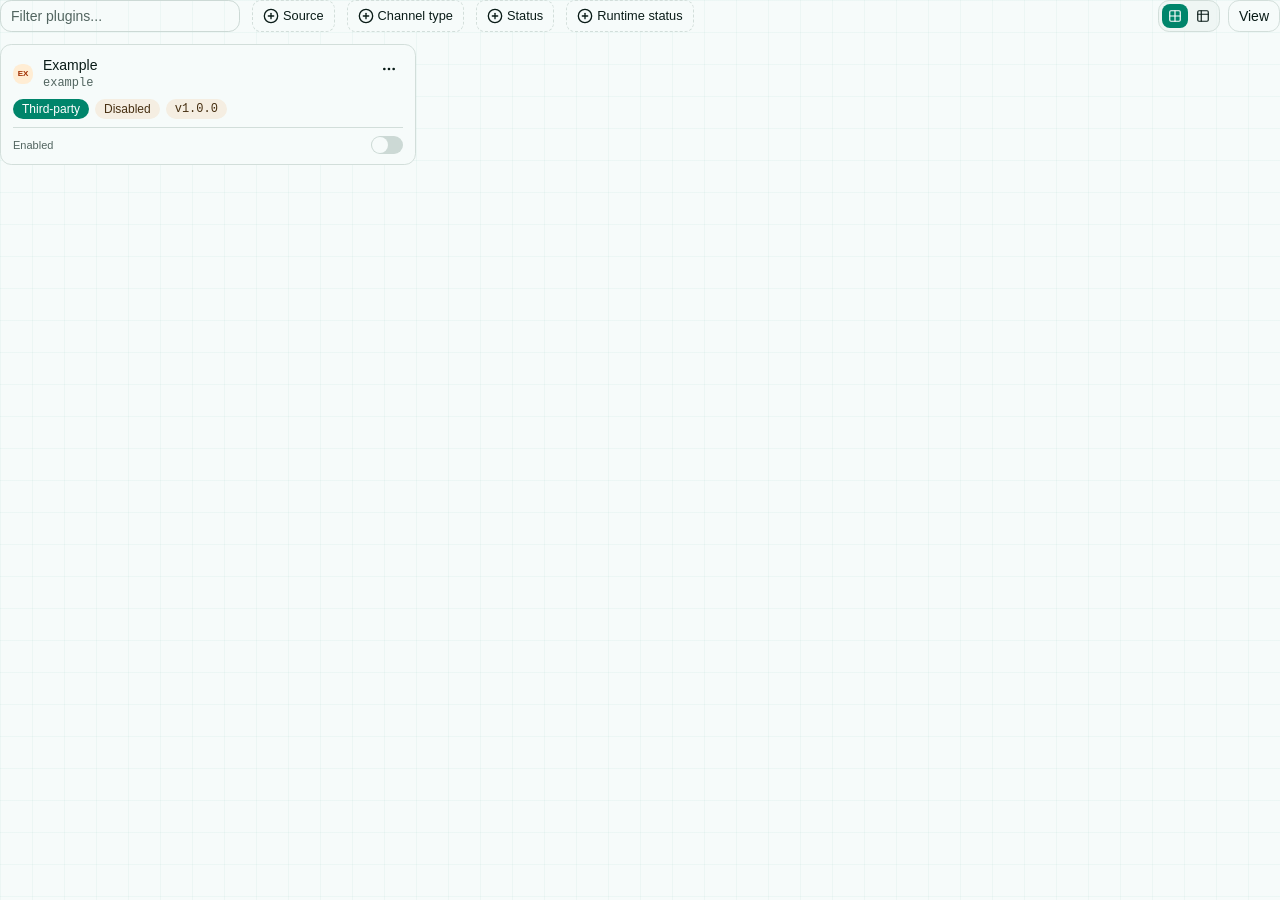
Test: card view: changing enabled=false requires confirmation and cancellation preserves status
The width and height of the screenshot is (1280, 900).
Click the switch named "Enable plugin example".
click(387, 145)  # box [371,136,403,154]
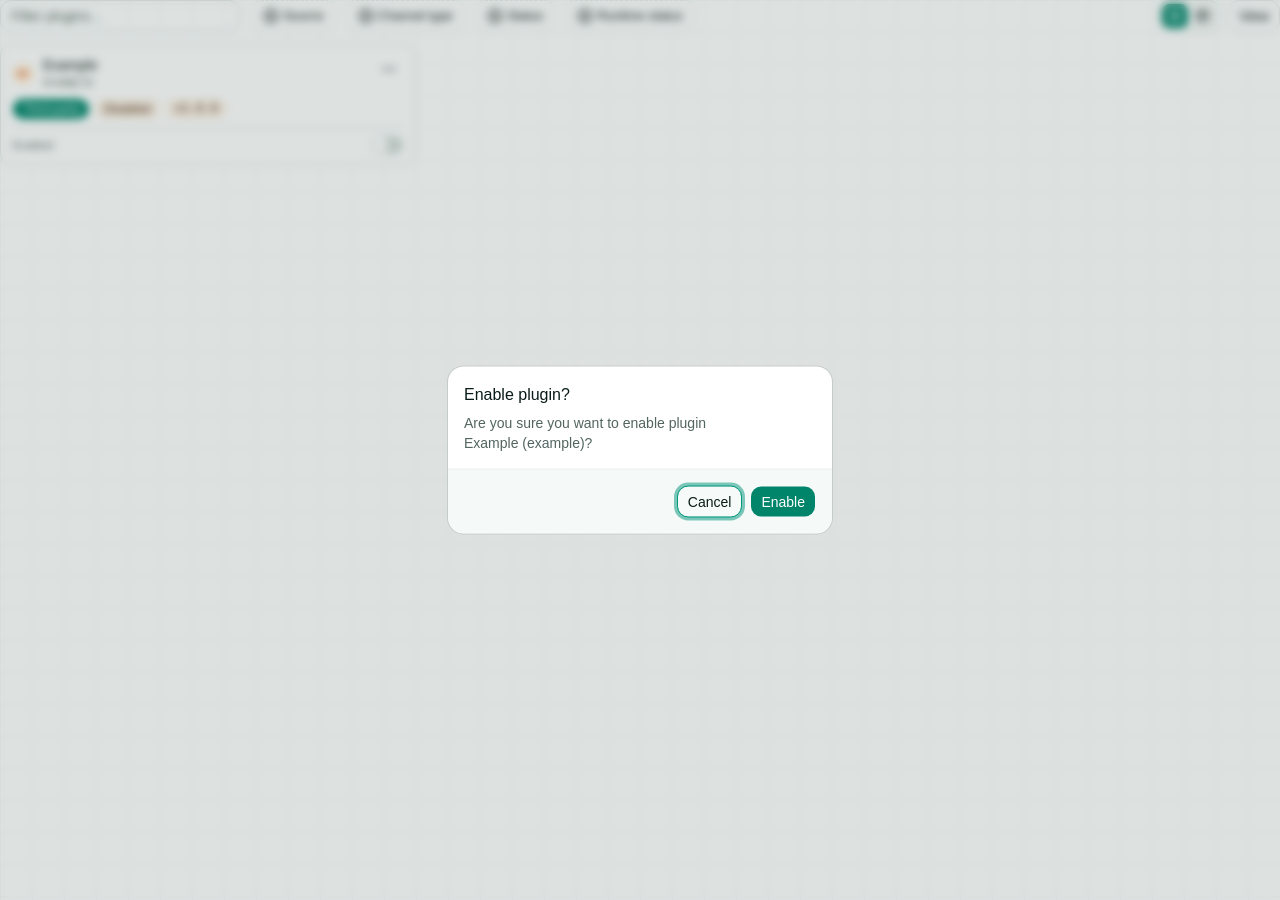
Check: the dialog "Enable plugin?" shows "Example", box [464,414,706,450]
Click the button "Cancel".
click(710, 502)  # box [677,486,742,518]
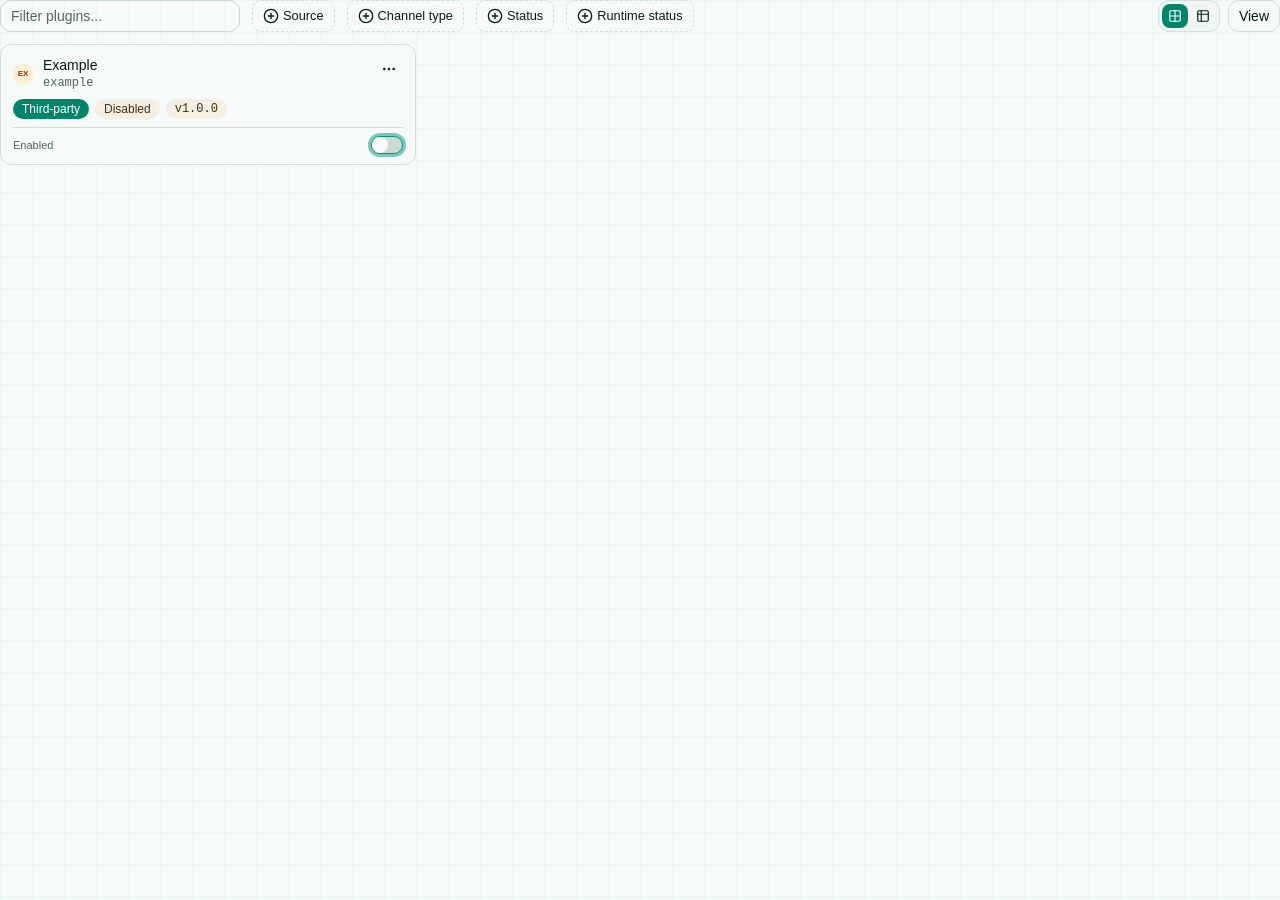
Check: the dialog is gone
Click the switch named "Enable plugin example".
click(387, 145)  # box [371,136,403,154]
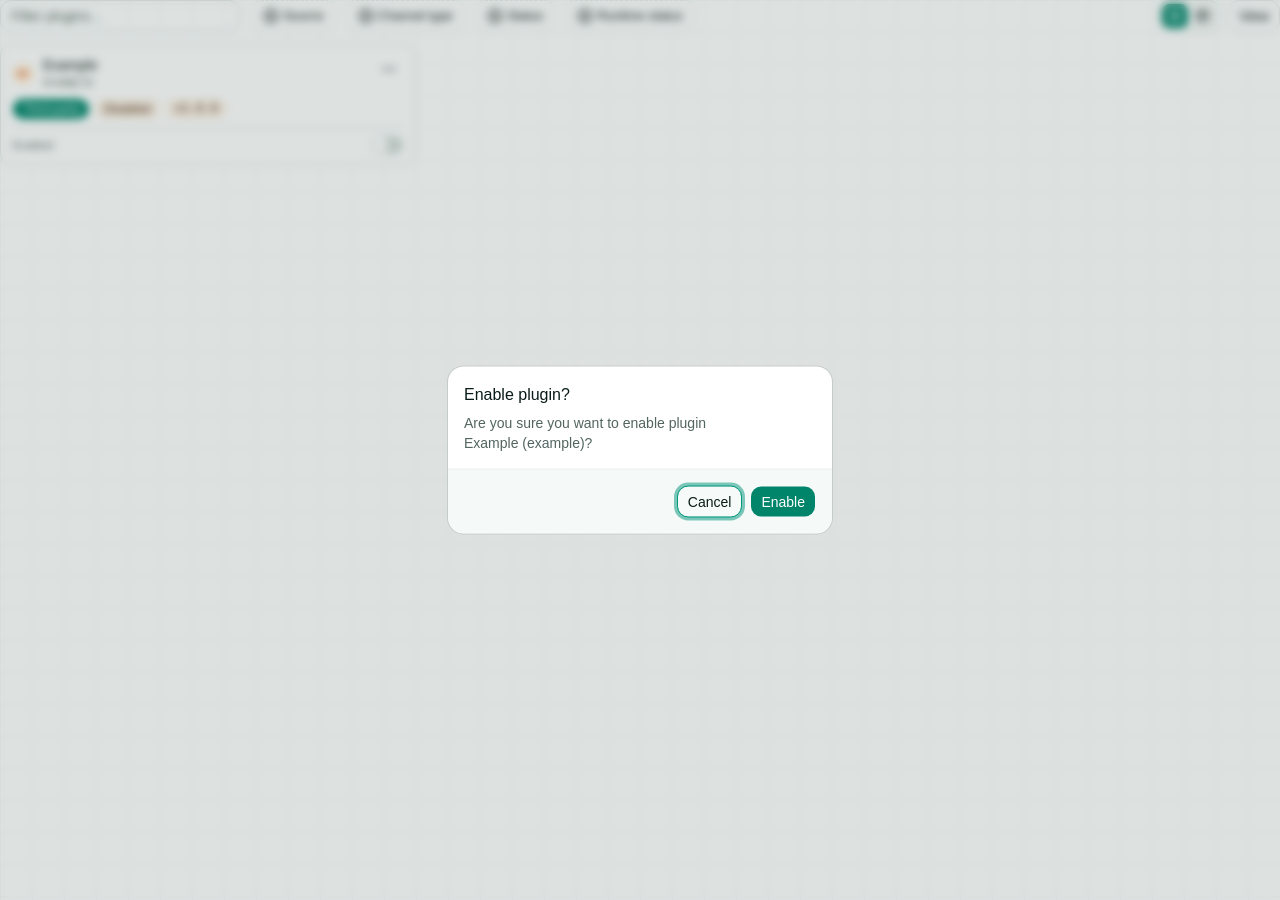
Click the button "Enable".
click(783, 502)  # box [750,486,816,518]
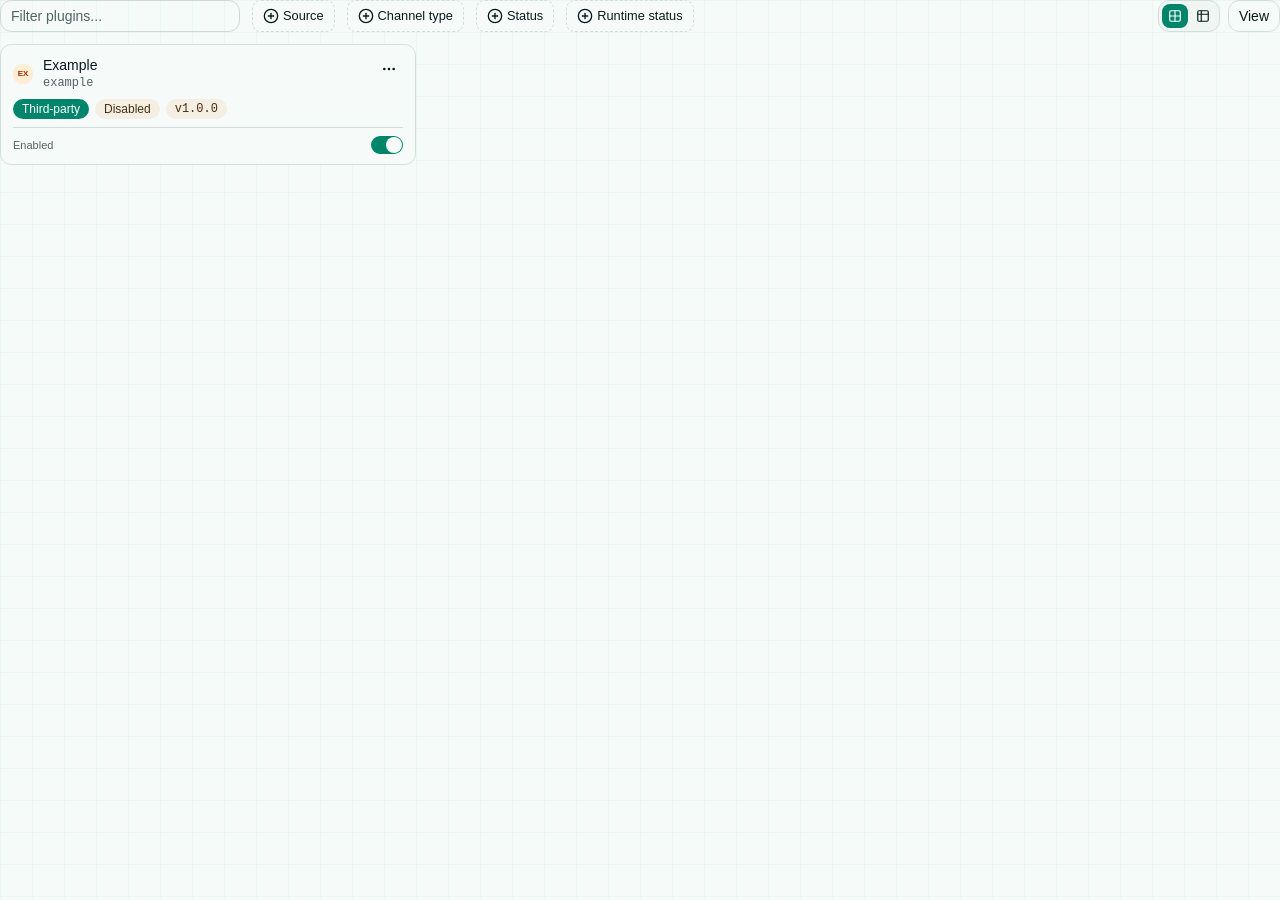
Check: the dialog is gone
